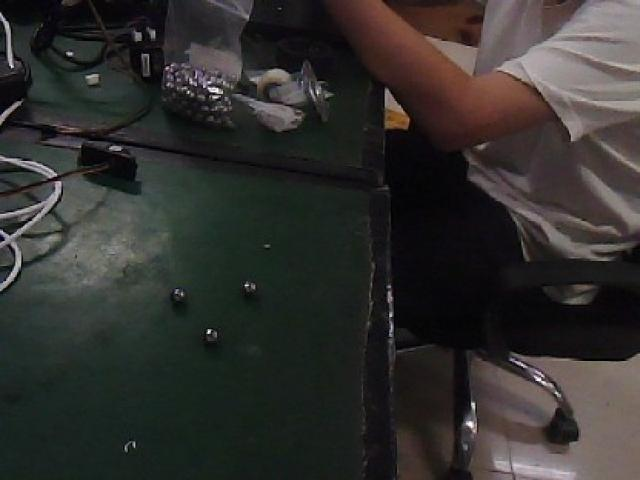steel-ball: (188, 312, 230, 361), (237, 265, 271, 306), (155, 276, 191, 313)
